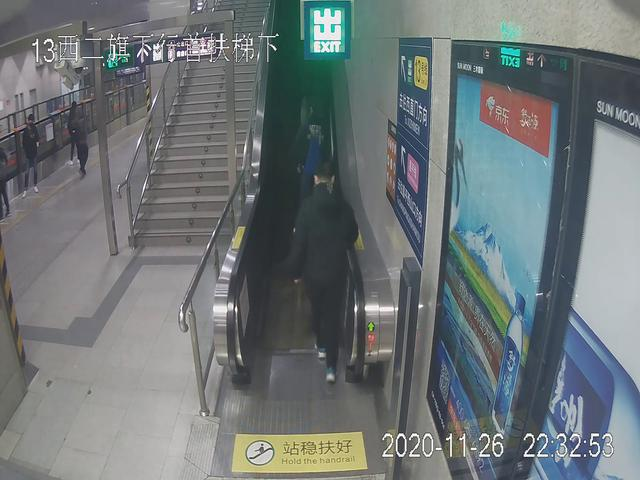person: (299, 160, 360, 382), (20, 112, 38, 198)
